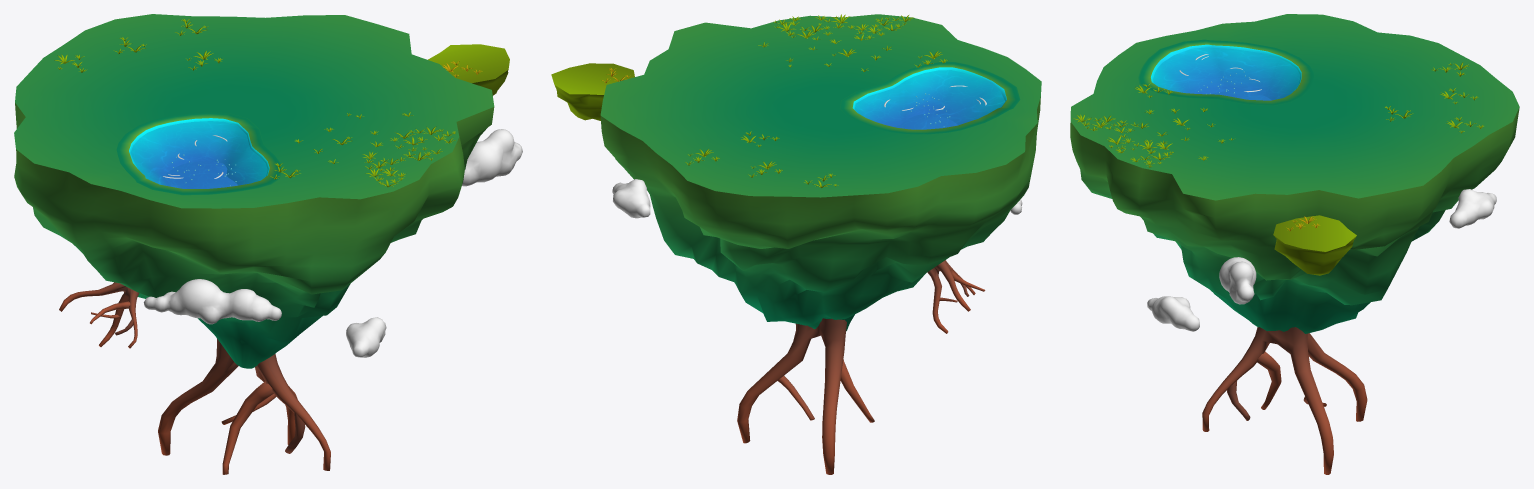
The model's file is Island_V1.fbx.
3 views of the same model, side by side, from view 1: azimuth 30°, elevation 25°; view 2: azimuth 150°, elevation 25°; view 3: azimuth 270°, elevation 25° (orthographic). The views are drawn at different scales.
Parts seen in each view (by area): view 1: Island_V1; view 2: Island_V1; view 3: Island_V1.
Boxes of the visible parts, box(x1,y1,x2,y2) form: Island_V1: box(14, 14, 522, 474); Island_V1: box(551, 14, 1041, 474); Island_V1: box(1070, 14, 1519, 474).
Size of the model in its own units: 3061 by 2213 by 2653.
